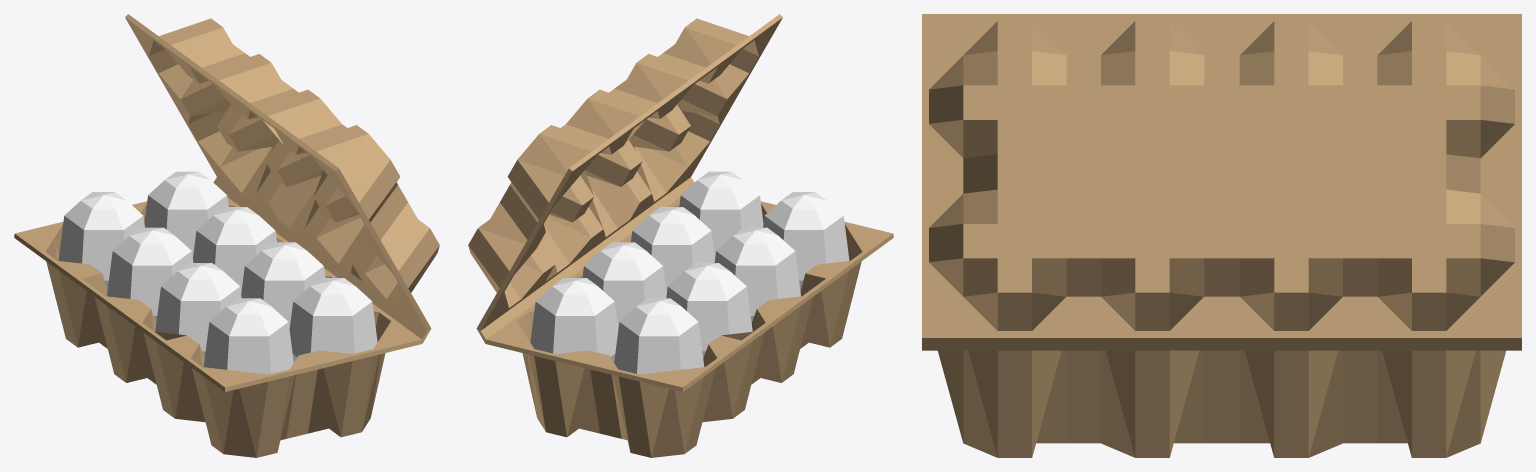
Rendered from Eier.fbx.
3 views of the same model, side by side, from view 1: azimuth 30°, elevation 25°; view 2: azimuth 150°, elevation 25°; view 3: azimuth 270°, elevation 25° (orthographic). The views are drawn at different scales.
Visible parts, largest first — view 1: Eggs; view 2: Eggs; view 3: Eggs.
Part boxes in pixels (box(x1,y1,x2,y2)): Eggs: box(14, 14, 439, 457); Eggs: box(468, 14, 893, 457); Eggs: box(922, 14, 1521, 457).
Size of the model in its own units: 36.93 by 42.05 by 56.4.
